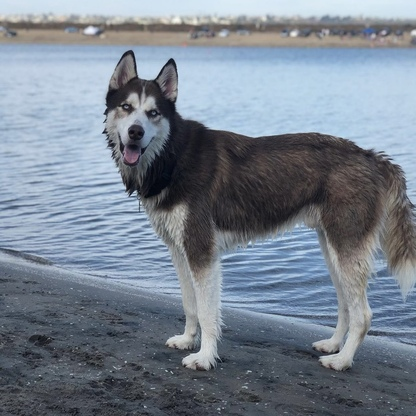husky: (94, 44, 415, 373)
